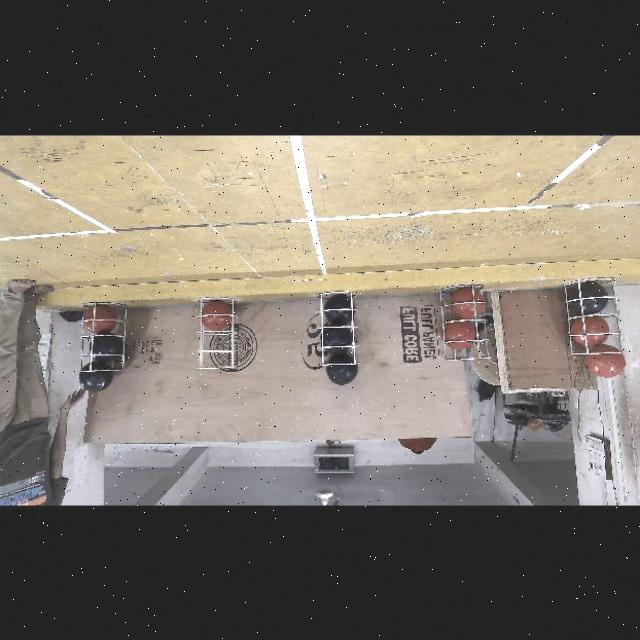P: (574, 282, 608, 316), (81, 362, 115, 392), (326, 355, 358, 386), (326, 295, 356, 325), (91, 335, 122, 363), (324, 327, 351, 355)
R: (586, 344, 626, 379), (572, 318, 610, 347), (83, 306, 119, 334), (451, 291, 483, 321), (443, 322, 475, 351), (203, 302, 231, 330)
S: (442, 285, 494, 367), (568, 280, 618, 362), (77, 302, 131, 376), (192, 294, 238, 376), (316, 289, 360, 369)
